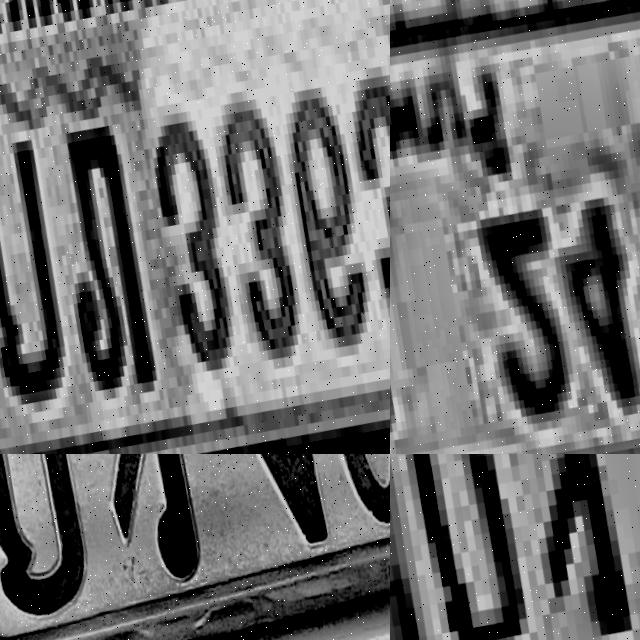license-plate: (0, 0, 390, 454), (390, 0, 640, 454), (0, 454, 390, 640), (390, 454, 640, 640)
